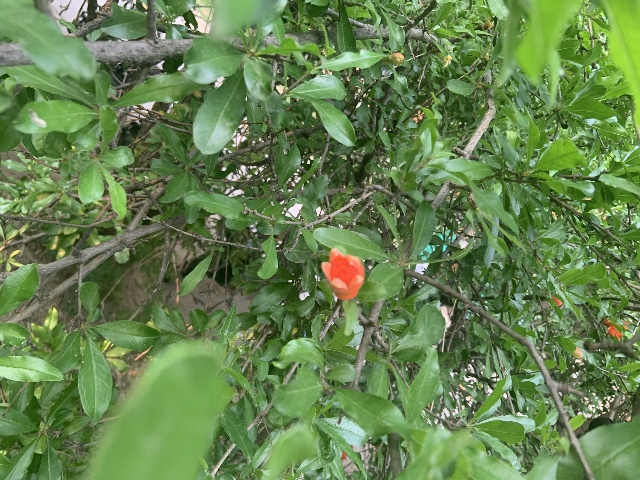bud: (389, 52, 403, 65)
flower: (320, 247, 365, 300), (604, 320, 629, 339)
